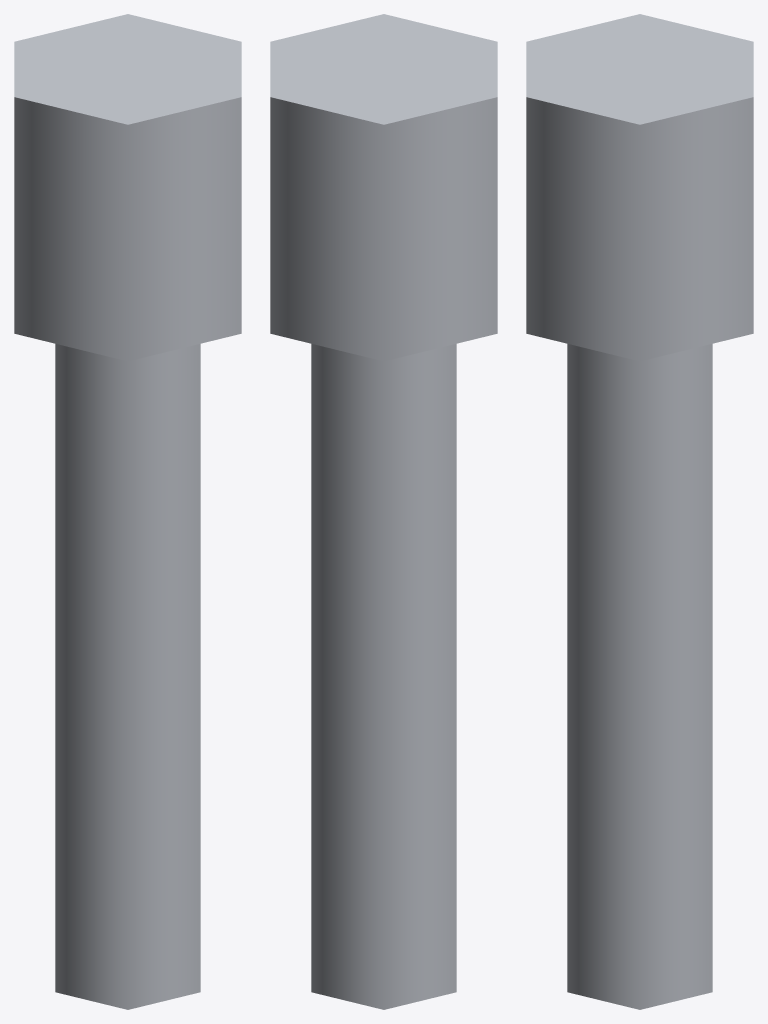
Rendered from Iron_Handle.FBX.
3 views of the same model, side by side, from view 1: azimuth 30°, elevation 25°; view 2: azimuth 150°, elevation 25°; view 3: azimuth 270°, elevation 25° (orthographic).
Visible parts, largest first — view 1: Cylinder012; view 2: Cylinder012; view 3: Cylinder012.
Part boxes in pixels (box(x1,y1,x2,y2)): Cylinder012: box(14, 14, 241, 1009); Cylinder012: box(270, 14, 497, 1009); Cylinder012: box(526, 14, 753, 1009).
Bounding box in the file's own units: 4.43 × 16.88 × 3.84.
